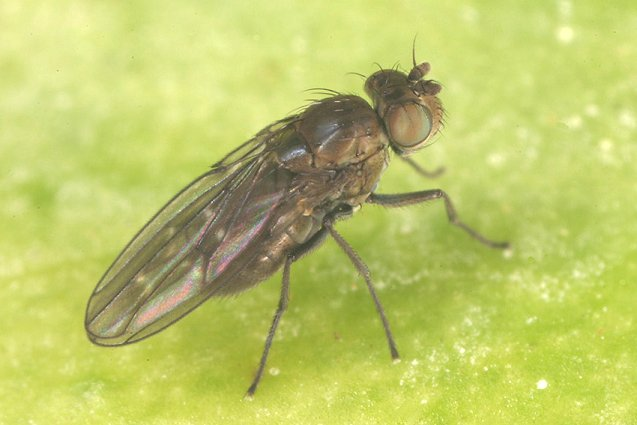Ephydridae: (83, 33, 516, 392)
